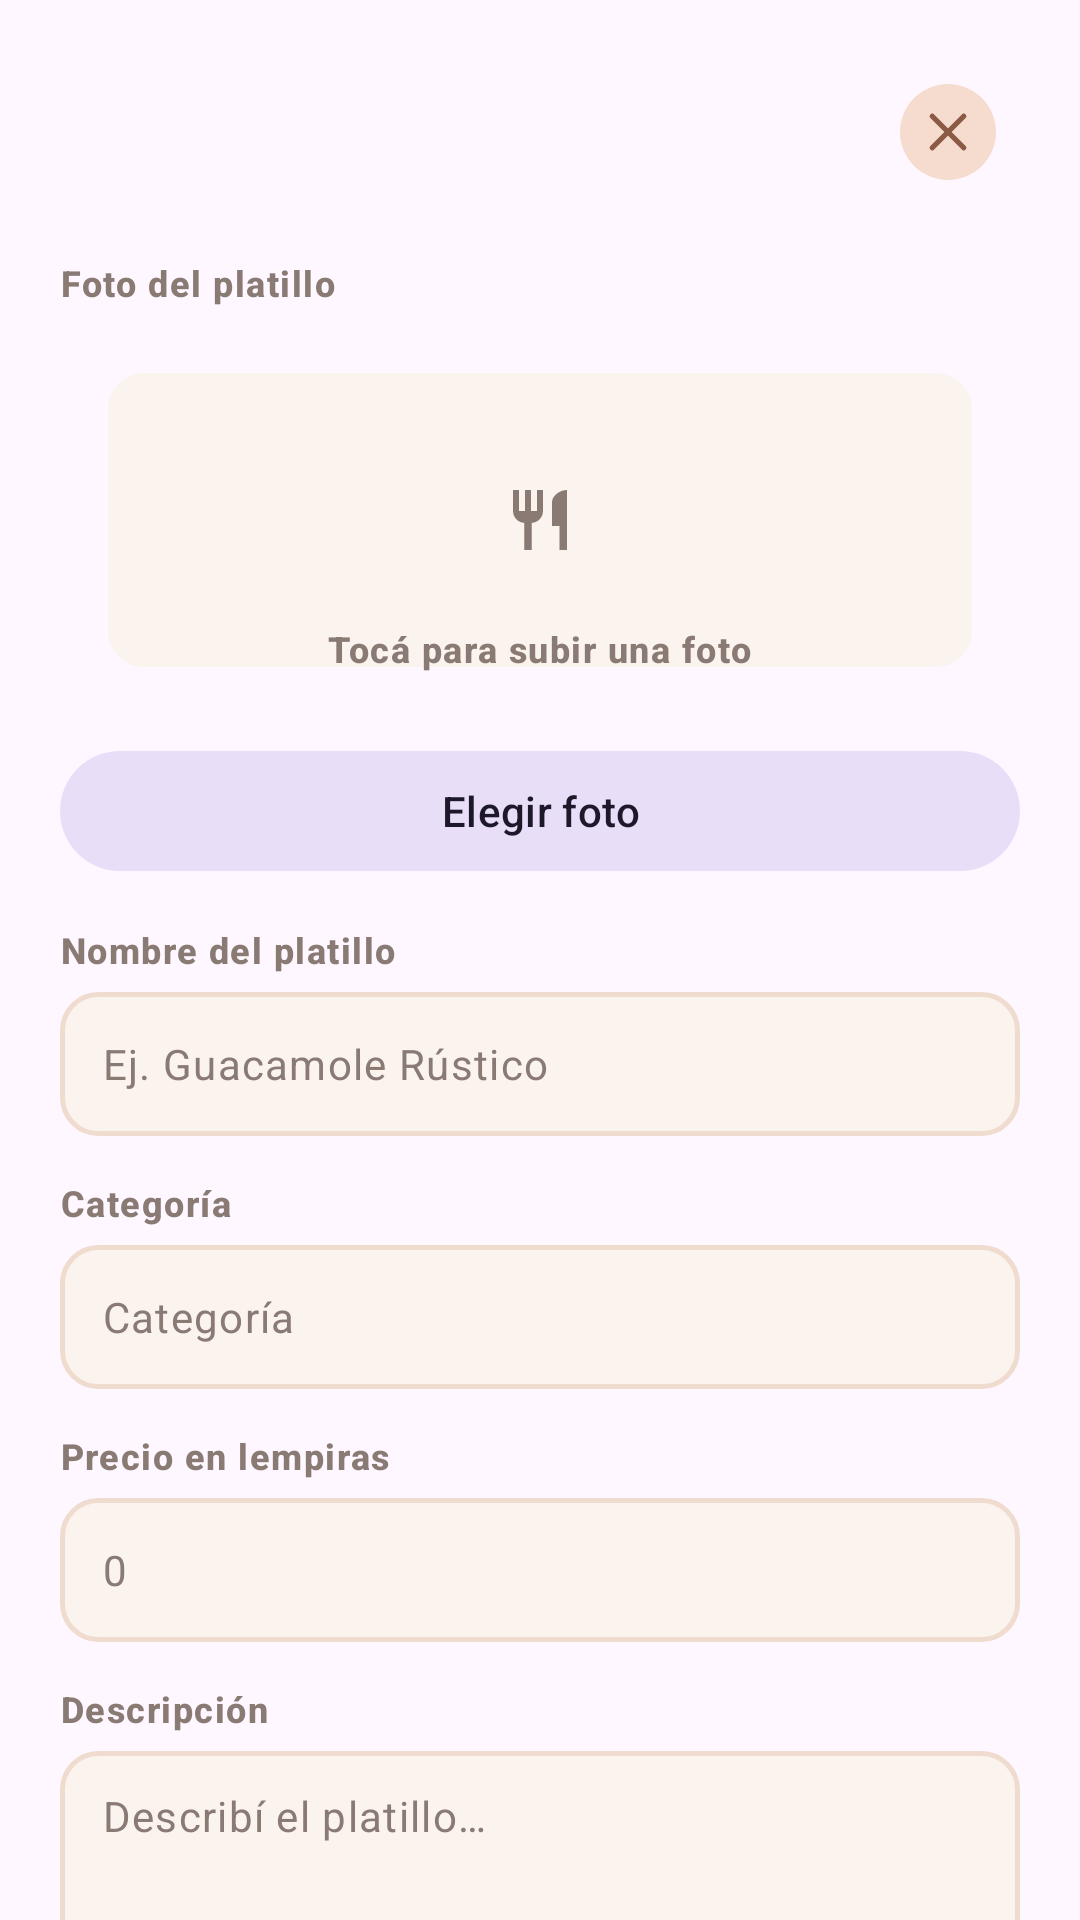

Point at icon controls on the screen. Image size 1080×1920, points as (x,y).
Cerrar: (948,132)
